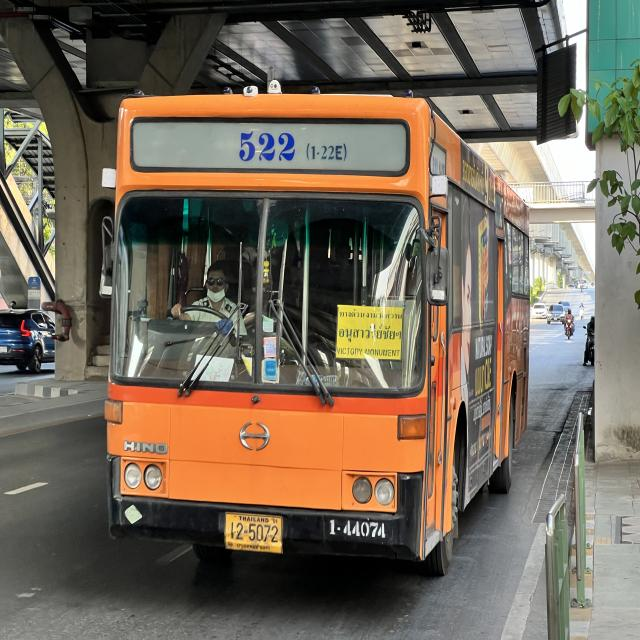BMTA-bus: (104, 92, 532, 577)
Bus-Line-Number: (235, 124, 353, 169)
Destination-Sign-Normal-Expressway: (336, 303, 404, 363)
